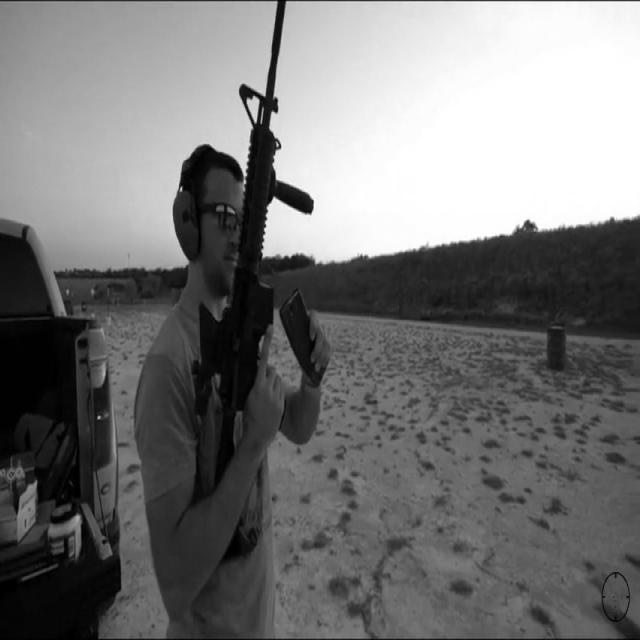Sniper: (219, 20, 342, 518)
